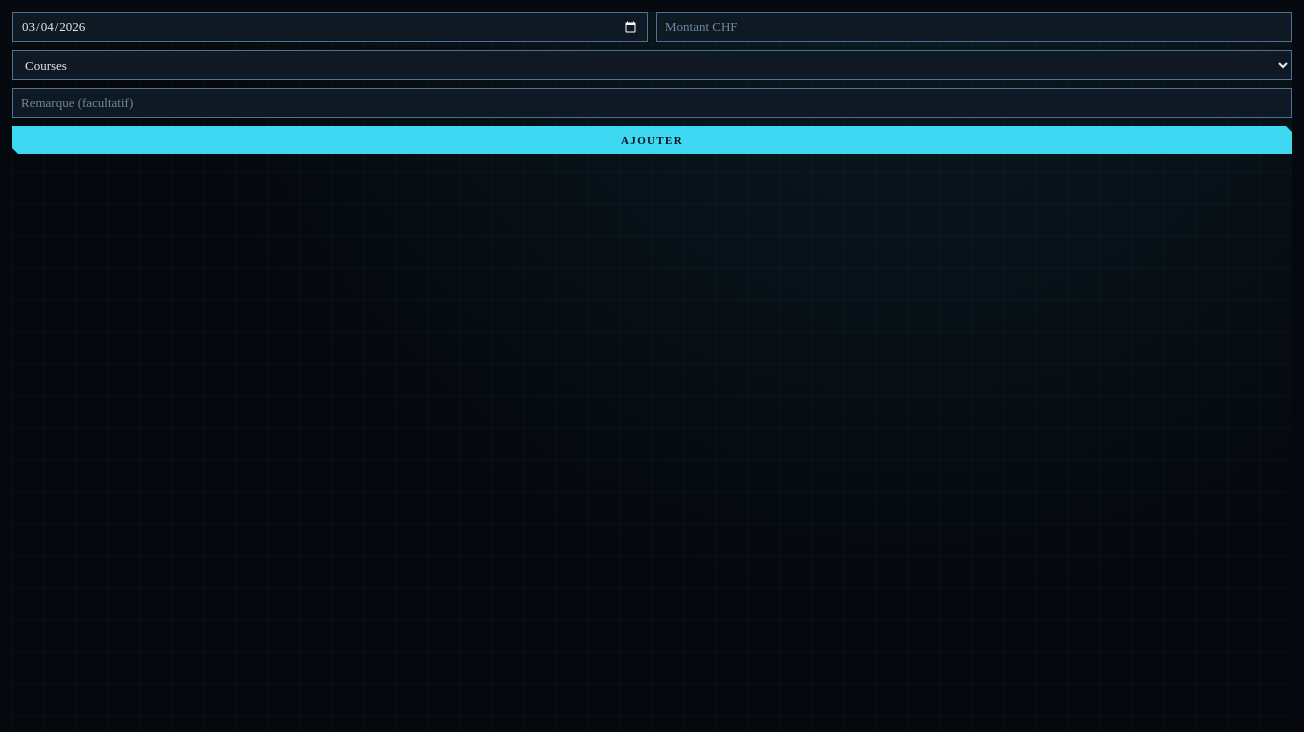
Test: EntryForm › fetch qui rejette: message 'Réseau indisponible, réessaie.'
Select "Nouvelle catégorie…" in the dropdown named "Catégorie" at [652, 65], box [12,50,1292,80]
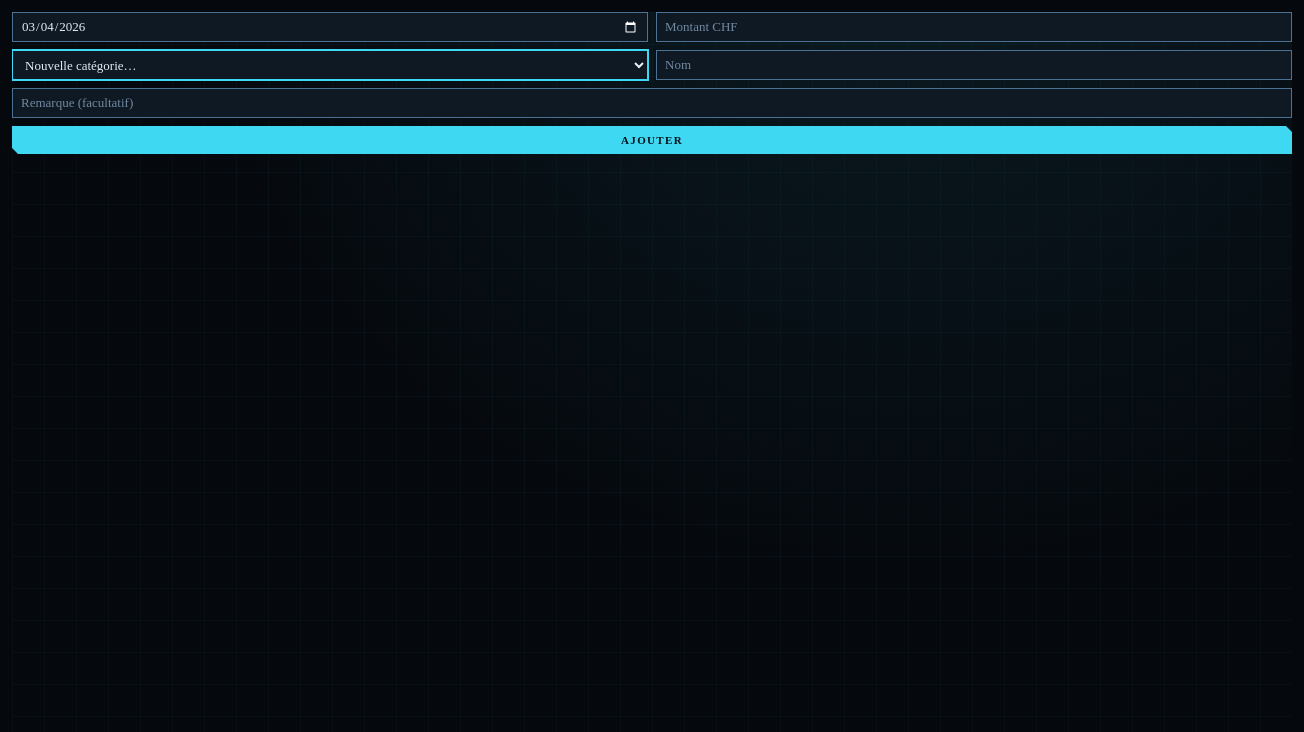
Type "Sport" into the field named "Nom de la nouvelle catégorie" at [974, 65], box [656,50,1292,80]
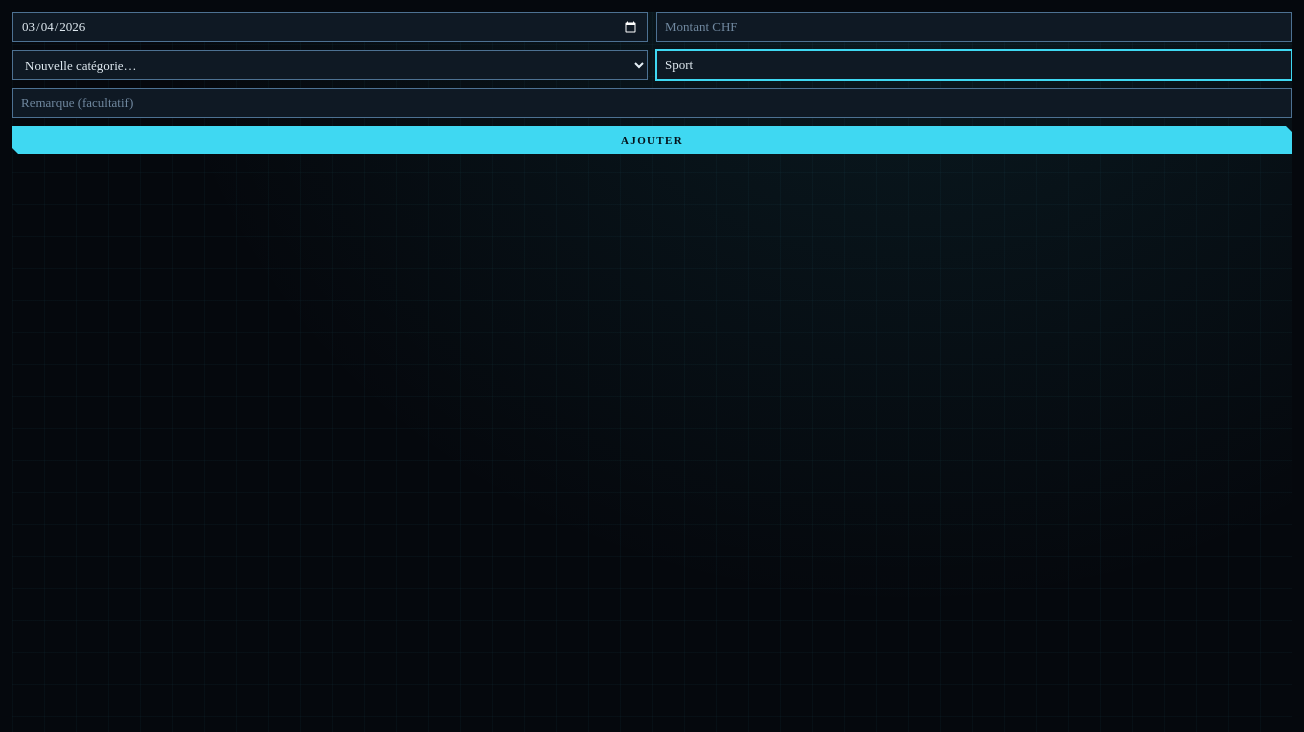
Type "20" into the field named "Montant en CHF" at [974, 27], box [656,12,1292,42]
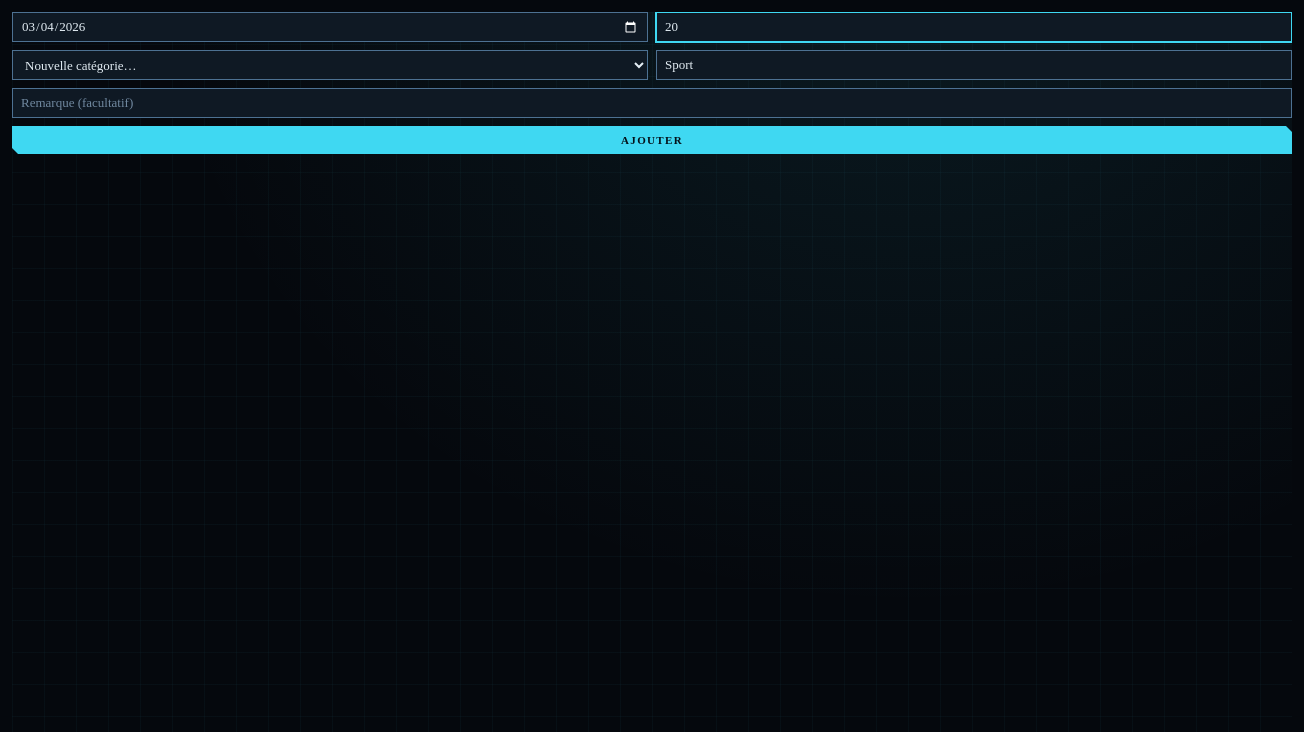
Click the button "Ajouter" at [652, 140], box [12,126,1292,154]
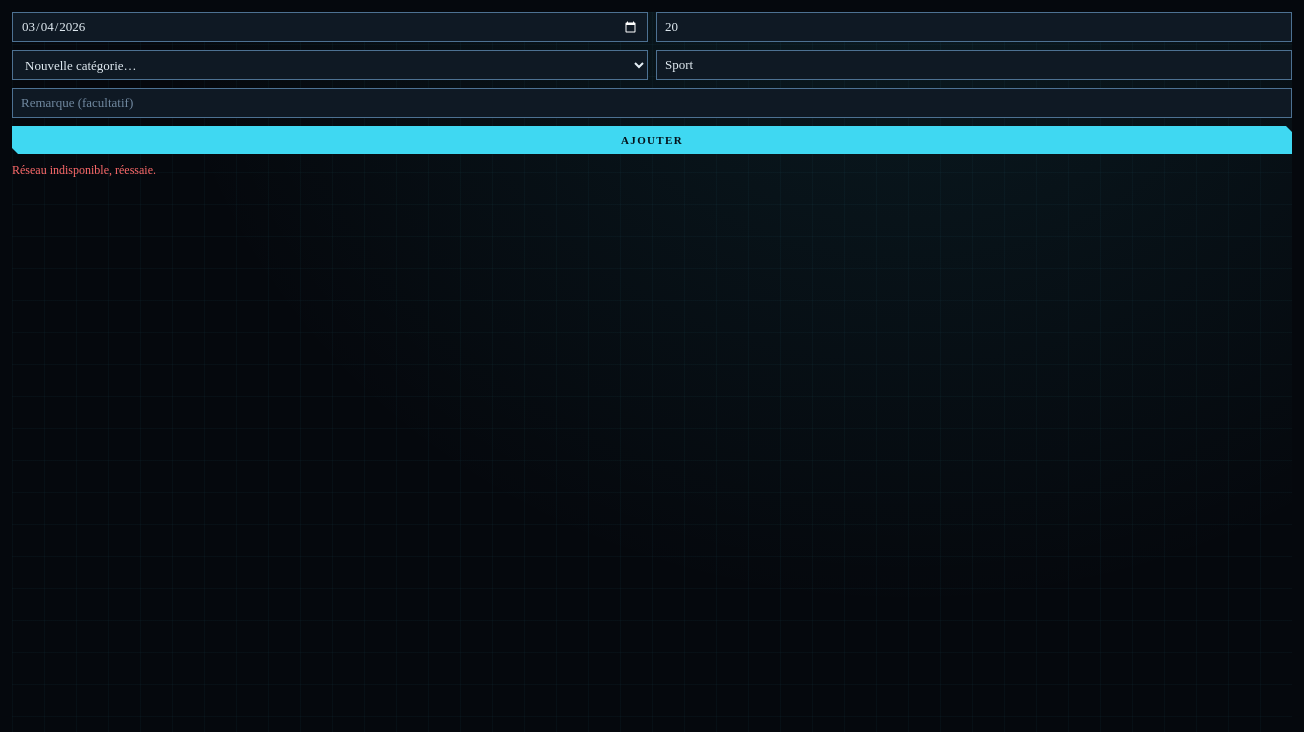
expect the message reads "Réseau indisponible, réessaie.": met, box [12,163,156,177]
